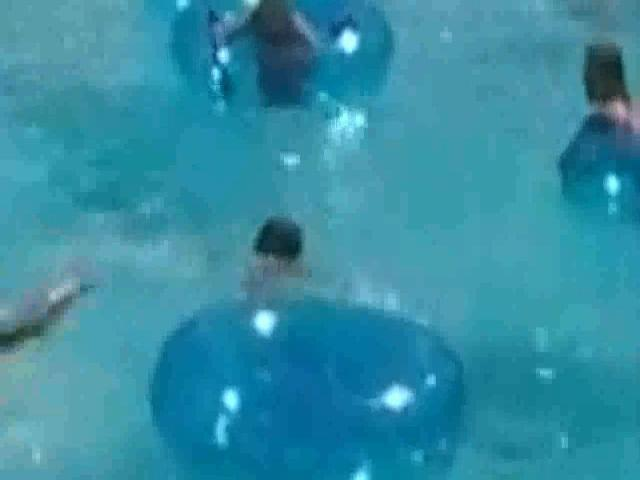drowning: (139, 186, 351, 296)
